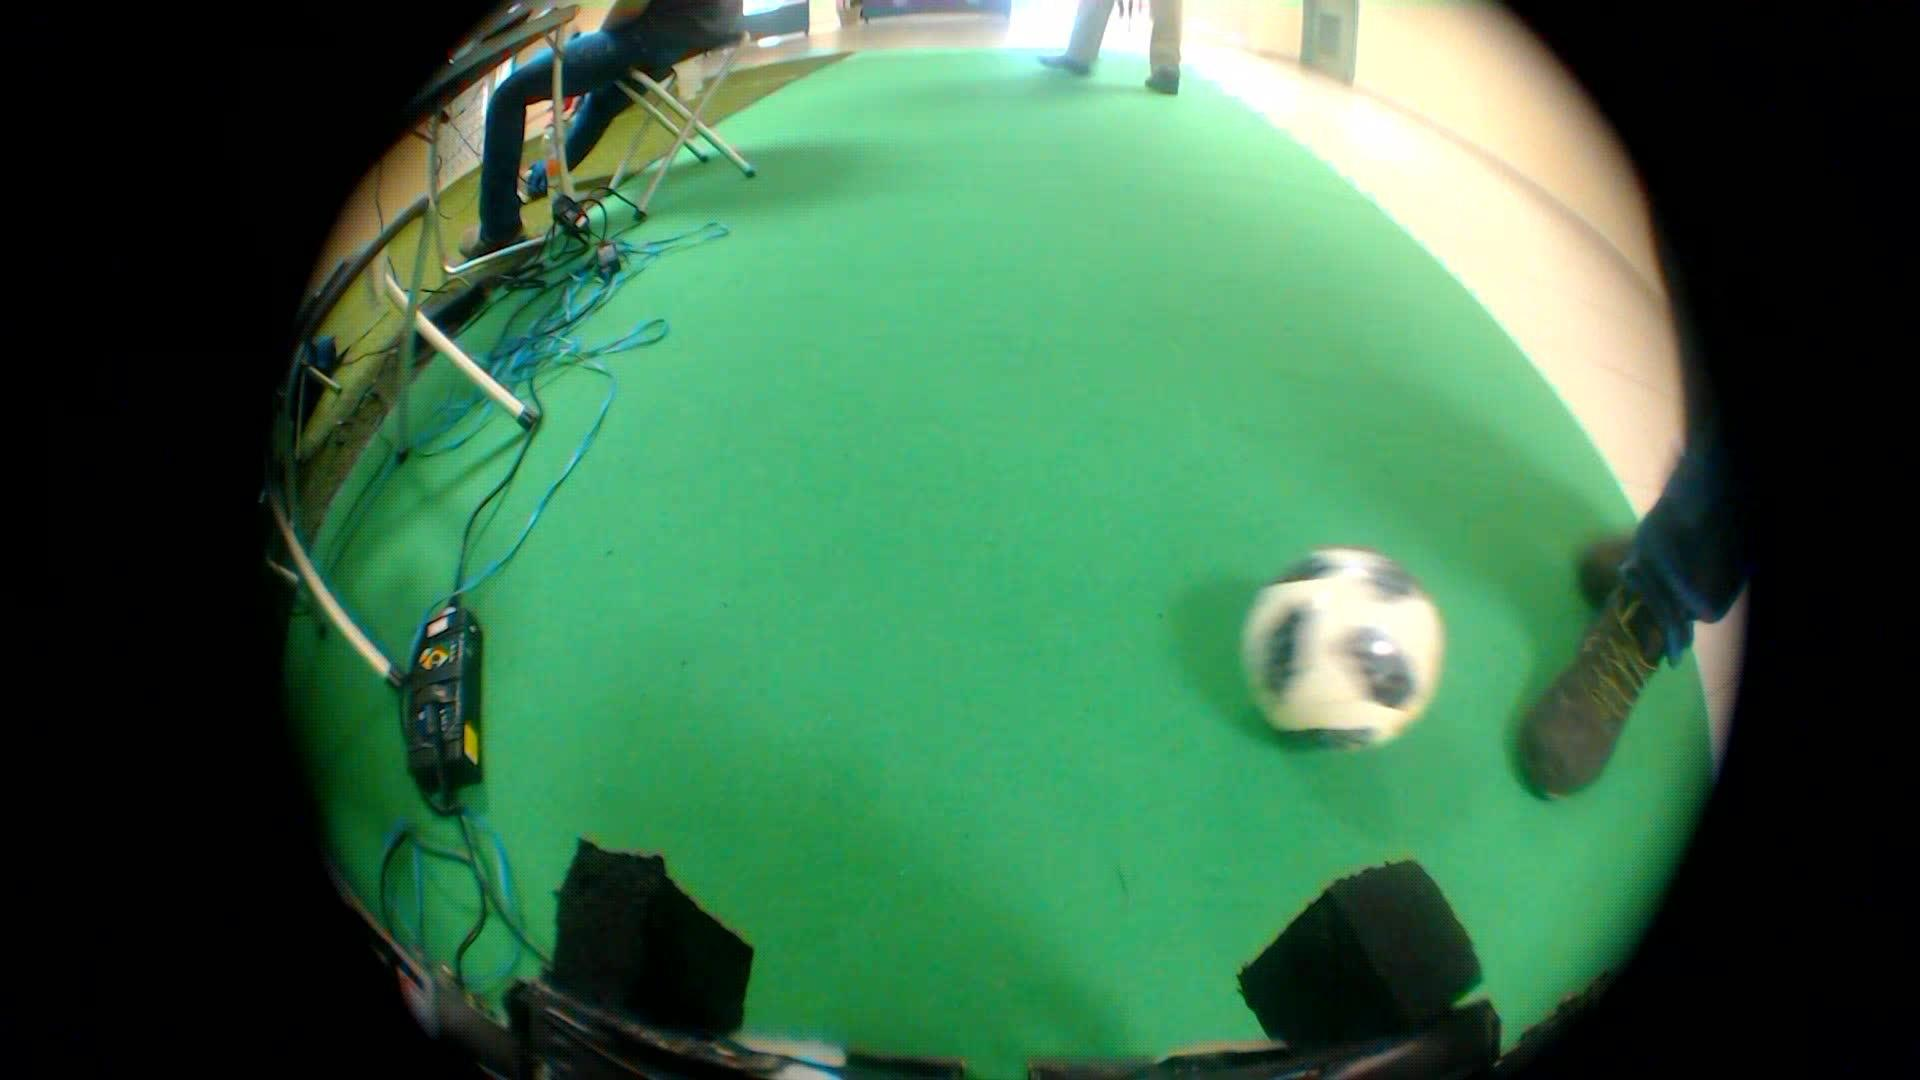ball: (1204, 533, 1474, 761)
